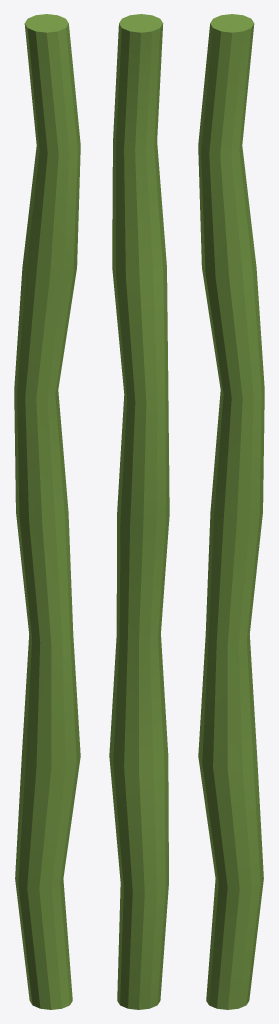
The model's file is sitaw.fbx.
3 renders of one model, left to right at view 1: azimuth 90°, elevation 25°; view 2: azimuth 210°, elevation 25°; view 3: azimuth 270°, elevation 25°, orthographic.
Visible parts, largest first — view 1: pCylinder1; view 2: pCylinder1; view 3: pCylinder1.
Part boxes in pixels (x1,y1,x2,y2): pCylinder1: (14,14,80,1009); pCylinder1: (109,14,169,1009); pCylinder1: (198,14,264,1009).
Size of the model in its own units: 0.6725 by 12.31 by 0.7596.
